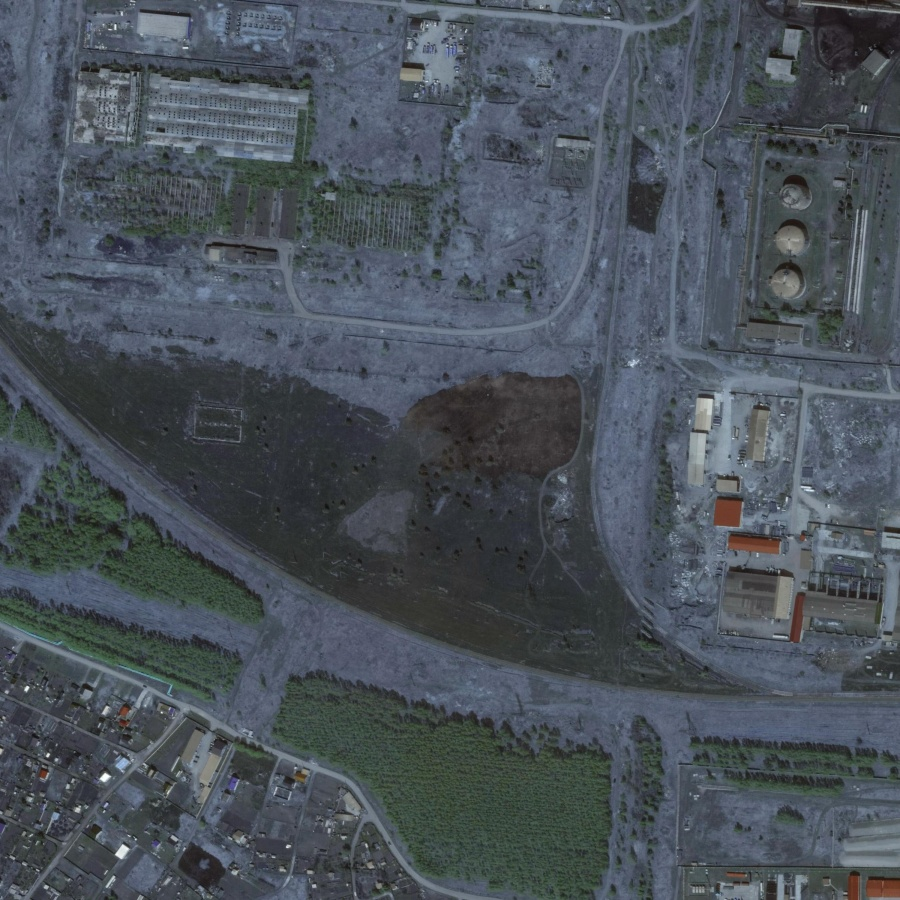PowerPlant: (730, 117, 878, 359)
